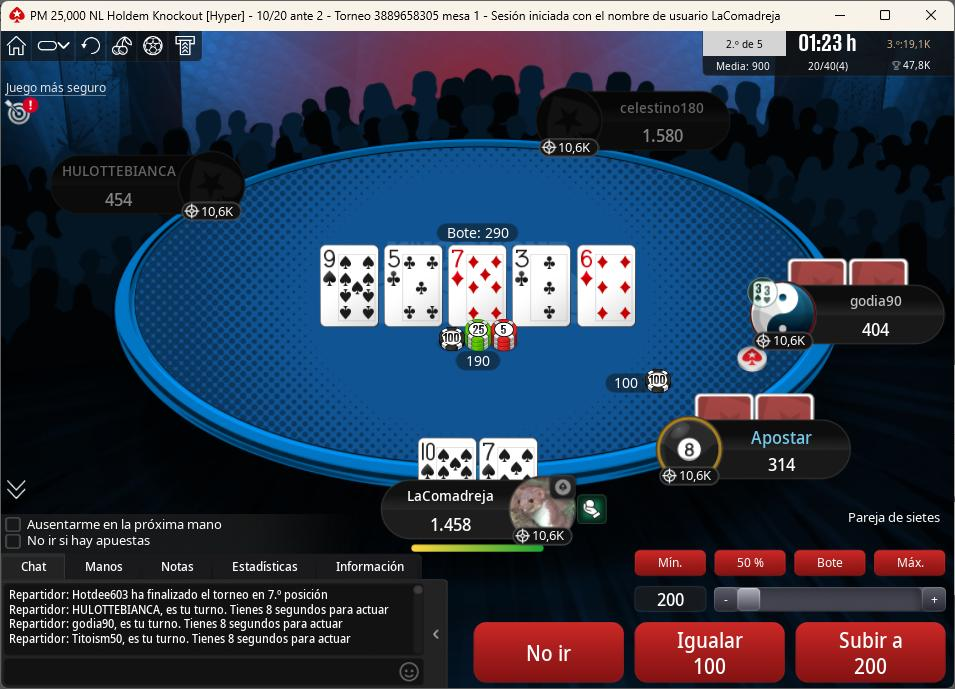ButtonCall: (629, 614, 784, 685)
ButtonFold: (472, 620, 632, 685)
ButtonMaxRaise: (874, 546, 950, 580)
ButtonMinRaise: (633, 547, 711, 580)
ButtonRaise: (792, 618, 948, 684)
Dealer: (735, 340, 773, 376)
HiddenCards: (692, 393, 821, 423), (787, 259, 913, 286)
Player: (748, 283, 951, 351), (650, 421, 852, 489), (50, 151, 247, 215), (546, 92, 734, 158)
PlayerChips: (633, 125, 692, 144), (763, 455, 807, 476), (95, 191, 140, 211), (856, 321, 897, 342)
Pot: (434, 223, 520, 243)
PrincipalCards: (413, 438, 542, 484)
PrincipalCards1: (415, 436, 478, 483)
PrincipalCards2: (477, 437, 540, 482)
PrincipalPlayer: (385, 475, 587, 551)
PrincipalPlayerChips: (422, 517, 482, 537)
ShowedCards: (317, 241, 649, 334)
ShowedCards1: (320, 243, 380, 329)
ShowedCards2: (382, 243, 445, 329)
ShowedCards3: (445, 245, 510, 330)
ShowedCards4: (509, 245, 571, 328)
ShowedCards5: (575, 241, 637, 329)
SmallBigBlind: (248, 6, 333, 26)
TablePot: (434, 321, 535, 381)
